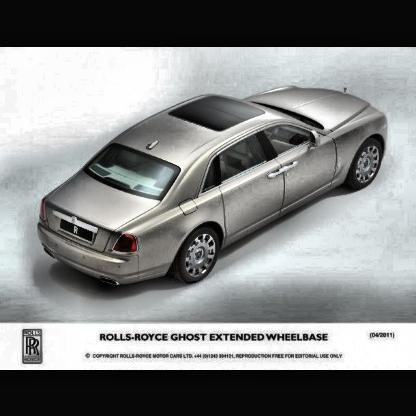Rolls-Royce Ghost Sedan 2012: (38, 83, 391, 289)
